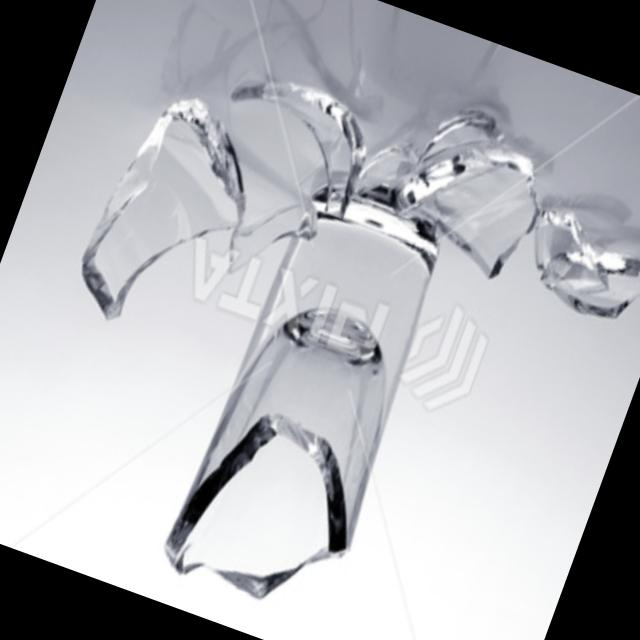PecahanKaca: (0, 0, 640, 640), (154, 176, 467, 632)
